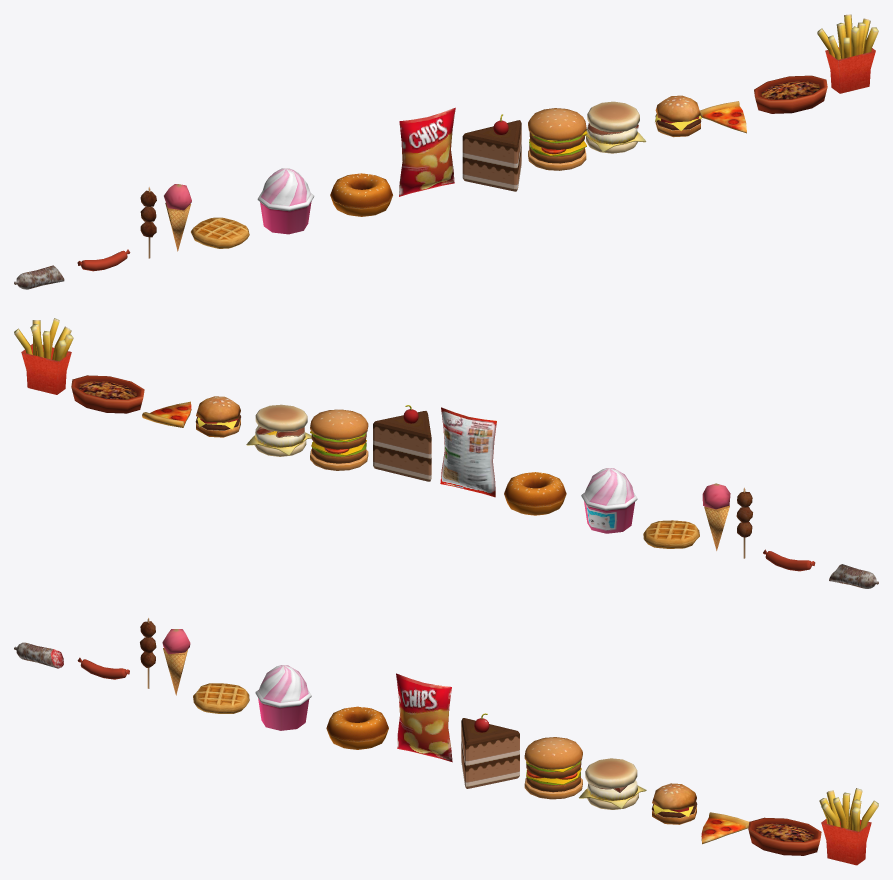
The model's file is less_healthy_food_pack.glb.
3 renders of one model, top to bottom at view 1: azimuth 30°, elevation 25°; view 2: azimuth 150°, elevation 25°; view 3: azimuth 330°, elevation 25°, orthographic.
Parts seen in each view (by area): view 1: notHEALTHY; view 2: notHEALTHY; view 3: notHEALTHY.
Part boxes in pixels (left/top/right/bottom): notHEALTHY: left=14, top=14, right=878, bottom=289; notHEALTHY: left=14, top=318, right=878, bottom=588; notHEALTHY: left=14, top=618, right=878, bottom=865.
Bounding box in the file's own units: 19.23 × 1.66 × 1.53.
Materials: 8 (8 with a texture image).
